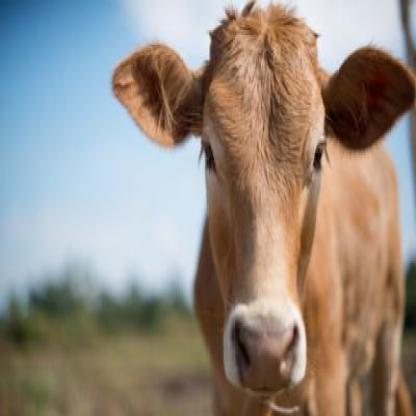lower: (244, 383, 294, 394)
mouth: (225, 299, 309, 396)
upper: (231, 321, 299, 378)
